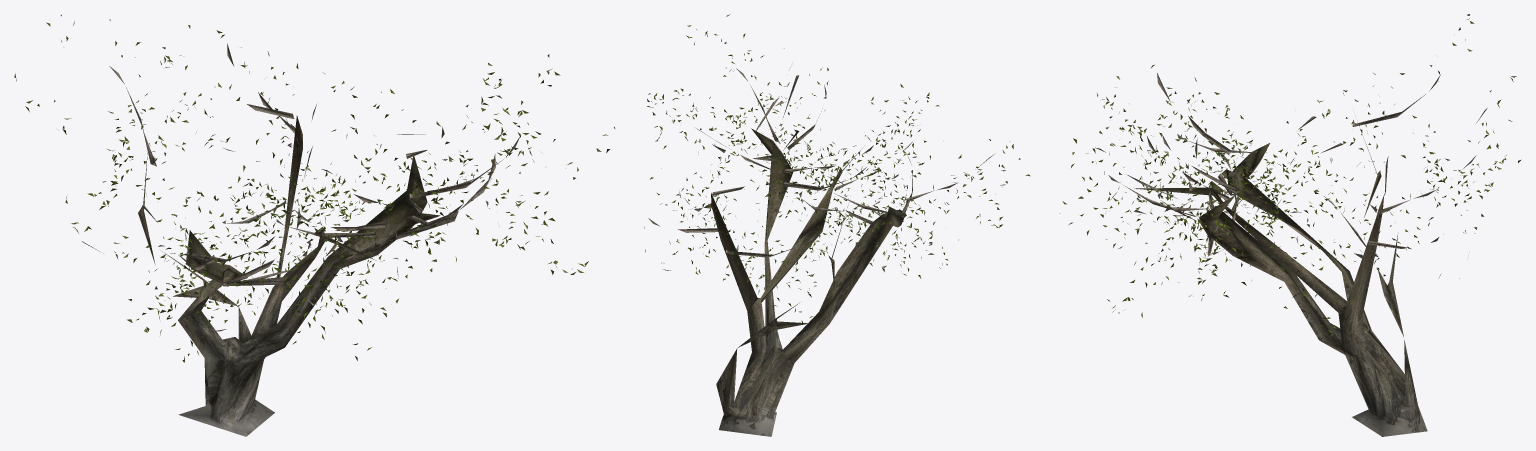
Rendered from island_tree_02.glb.
3 renders of one model, left to right at view 1: azimuth 30°, elevation 25°; view 2: azimuth 150°, elevation 25°; view 3: azimuth 270°, elevation 25°, orthographic. The views are drawn at different scales.
Visible parts, largest first — view 1: island_tree_02_LOD0; view 2: island_tree_02_LOD0; view 3: island_tree_02_LOD0.
Part boxes in pixels (<box>): island_tree_02_LOD0: <box>14,14,615,436</box>; island_tree_02_LOD0: <box>644,14,1030,436</box>; island_tree_02_LOD0: <box>1060,14,1521,436</box>.
Bounding box in the file's own units: 3.67 × 3.33 × 4.
3 materials, 3 textured.
